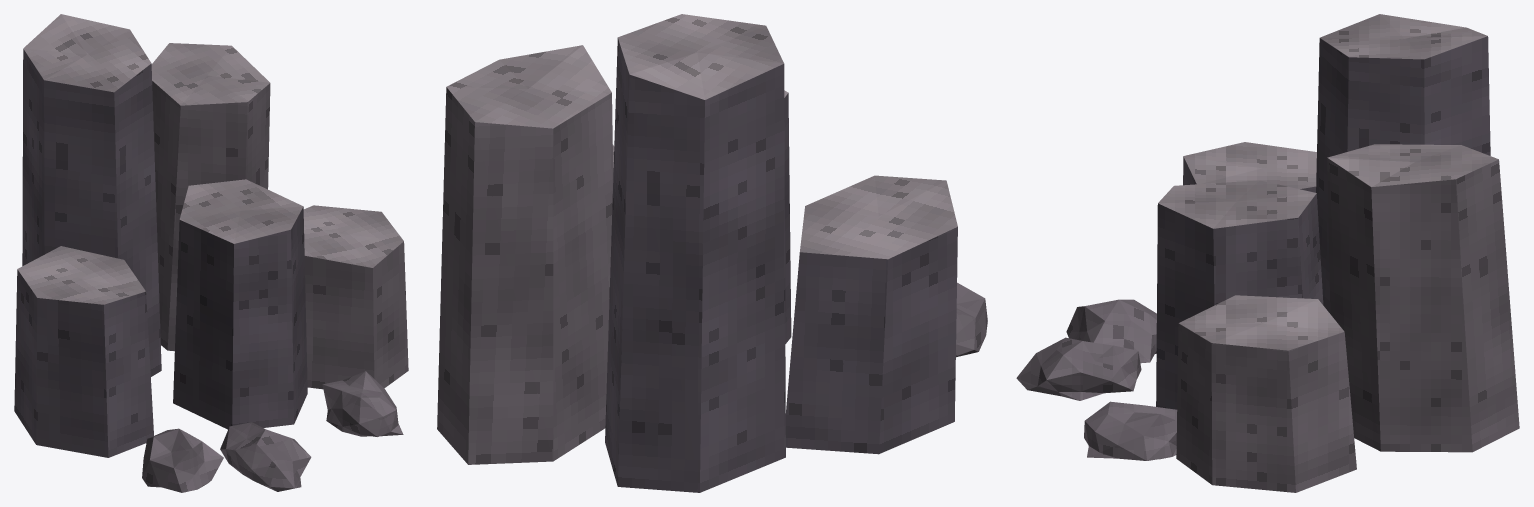
The model's file is map05-obj05.glb.
3 views of the same model, side by side, from view 1: azimuth 30°, elevation 25°; view 2: azimuth 150°, elevation 25°; view 3: azimuth 270°, elevation 25° (orthographic). The views are drawn at different scales.
Visible parts, largest first — view 1: map05_obj052; view 2: map05_obj052; view 3: map05_obj052.
Boxes of the visible parts, bbox=[...] form: map05_obj052: bbox=[14, 14, 408, 492]; map05_obj052: bbox=[437, 14, 987, 492]; map05_obj052: bbox=[1016, 14, 1519, 492].
Size of the model in its own units: 0.87 by 0.73 by 0.96.
3 materials, 3 textured.
